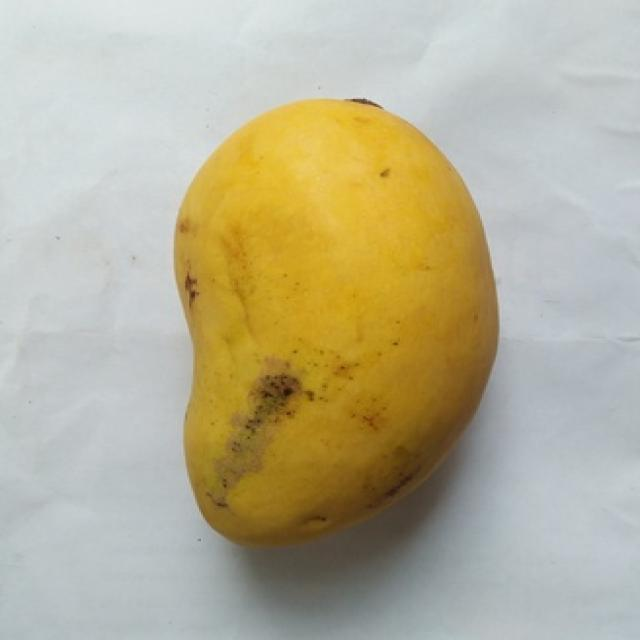Mango: (176, 99, 496, 543)
